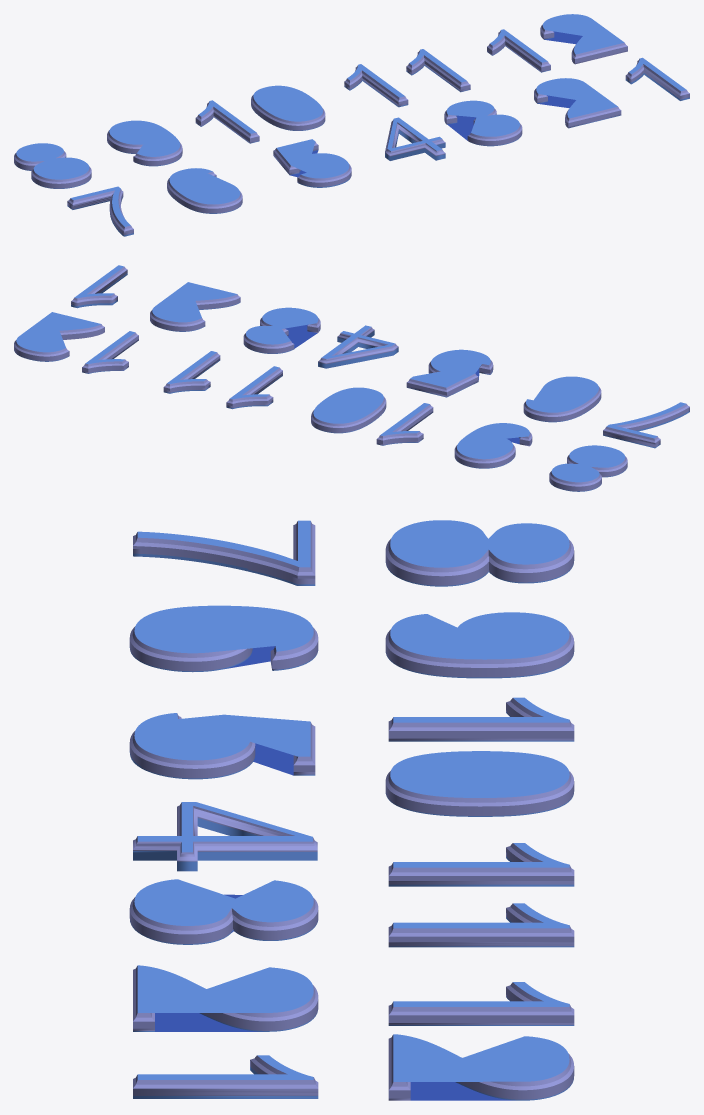
The picture shows the model from 3 angles, top to bottom: view 1: azimuth 30°, elevation 25°; view 2: azimuth 150°, elevation 25°; view 3: azimuth 270°, elevation 25°; orthographic projection. The views are drawn at different scales.
Parts seen in each view (by area): view 1: Text001, Text003, Text011, Text007, Text010, Text004, Text005, Text008, Text002, Text009, Text006, Text012; view 2: Text001, Text003, Text011, Text007, Text010, Text008, Text004, Text005, Text002, Text009, Text006, Text012; view 3: Text003, Text001, Text007, Text002, Text004, Text005, Text008, Text011, Text010, Text009, Text006, Text012.
Boxes of the visible parts, x1,y1,x2,y2 form: Text001: (487, 14, 627, 72); Text003: (195, 85, 325, 143); Text011: (534, 78, 621, 128); Text007: (167, 168, 242, 213); Text010: (444, 100, 522, 146); Text004: (107, 120, 182, 166); Text005: (14, 143, 91, 188); Text008: (273, 139, 351, 187); Text002: (344, 49, 470, 107); Text009: (385, 117, 445, 160); Text006: (67, 186, 133, 236); Text012: (625, 57, 689, 100); Text001: (14, 312, 138, 373); Text003: (311, 387, 433, 445); Text011: (150, 282, 240, 331); Text007: (523, 376, 601, 422); Text010: (243, 307, 320, 353); Text008: (406, 349, 493, 397); Text004: (454, 423, 532, 468); Text005: (549, 445, 627, 491); Text002: (163, 351, 282, 409); Text009: (318, 325, 398, 368); Text006: (603, 402, 689, 448); Text012: (71, 265, 127, 308); Text003: (385, 697, 574, 816); Text001: (388, 982, 574, 1100); Text007: (129, 605, 318, 672); Text002: (388, 843, 574, 947); Text004: (385, 612, 574, 678); Text005: (385, 520, 574, 586); Text008: (129, 713, 315, 779); Text011: (133, 965, 318, 1031); Text010: (129, 879, 318, 944); Text009: (133, 802, 317, 871); Text006: (133, 520, 315, 585); Text012: (133, 1055, 318, 1098).
Size of the model in its own units: 465 by 6.5 by 154.
